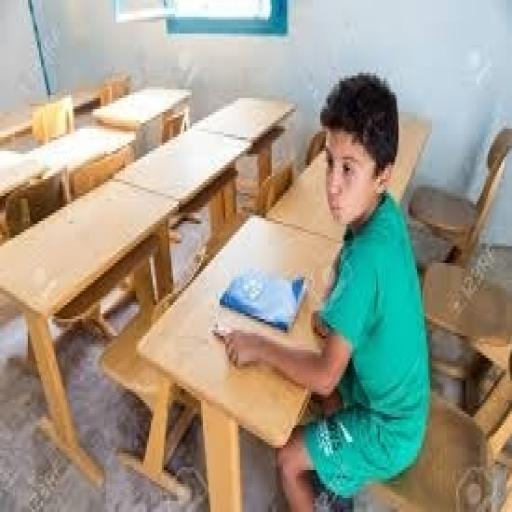sitting: (214, 70, 434, 509)
